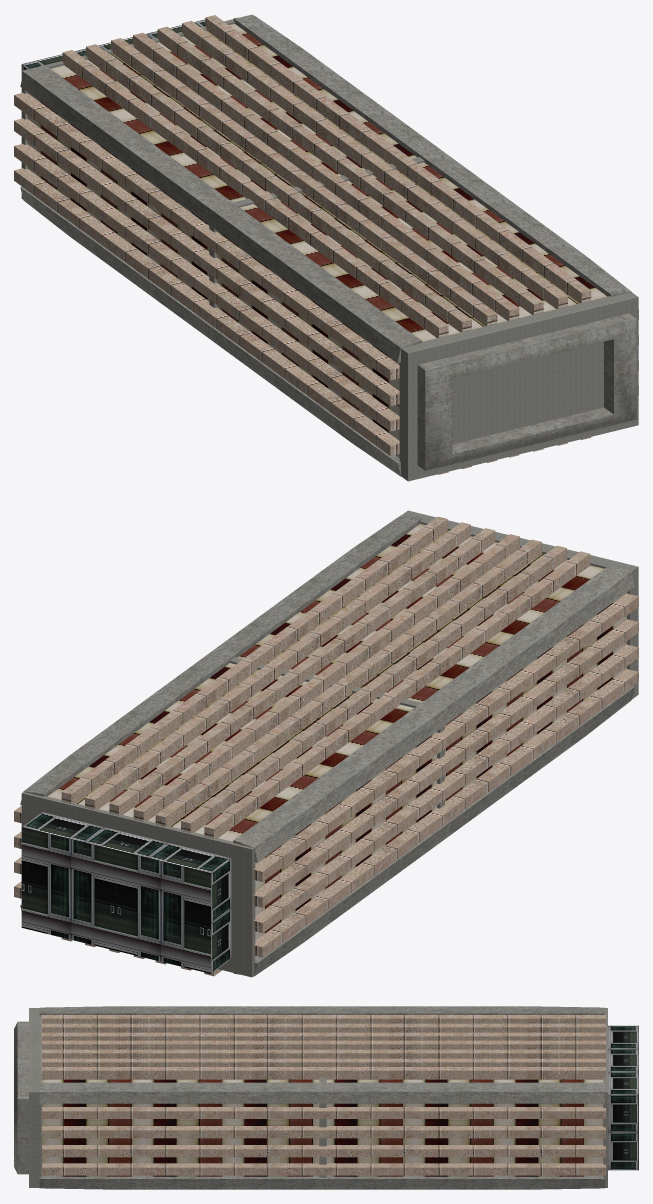
File: skyscraper_windowF_02.obj
The picture shows the model from 3 angles, top to bottom: view 1: azimuth 30°, elevation 25°; view 2: azimuth 150°, elevation 25°; view 3: azimuth 270°, elevation 25°; orthographic projection. The views are drawn at different scales.
Parts seen in each view (by area): view 1: Zone_4x4_SeaWall_C_05; view 2: Zone_4x4_SeaWall_C_05; view 3: Zone_4x4_SeaWall_C_05.
Part boxes in pixels (box(x1,y1,x2,y2)): Zone_4x4_SeaWall_C_05: box(14, 14, 638, 481); Zone_4x4_SeaWall_C_05: box(14, 510, 638, 977); Zone_4x4_SeaWall_C_05: box(14, 1006, 638, 1189).
Size of the model in its own units: 50.36 by 28.49 by 146.
Materials: 4 (4 with a texture image).
